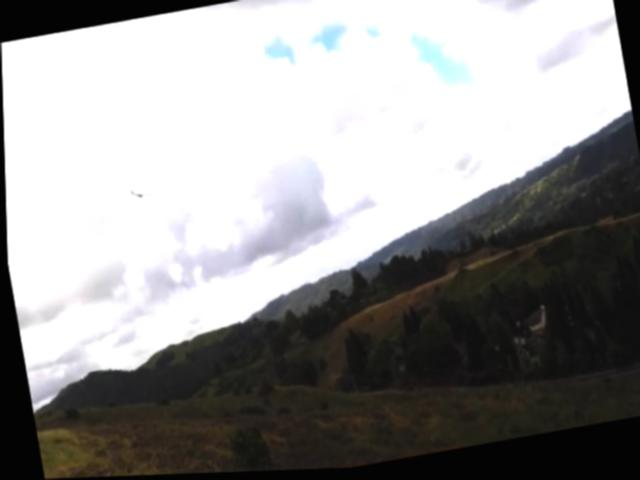iha: (124, 182, 149, 203)
